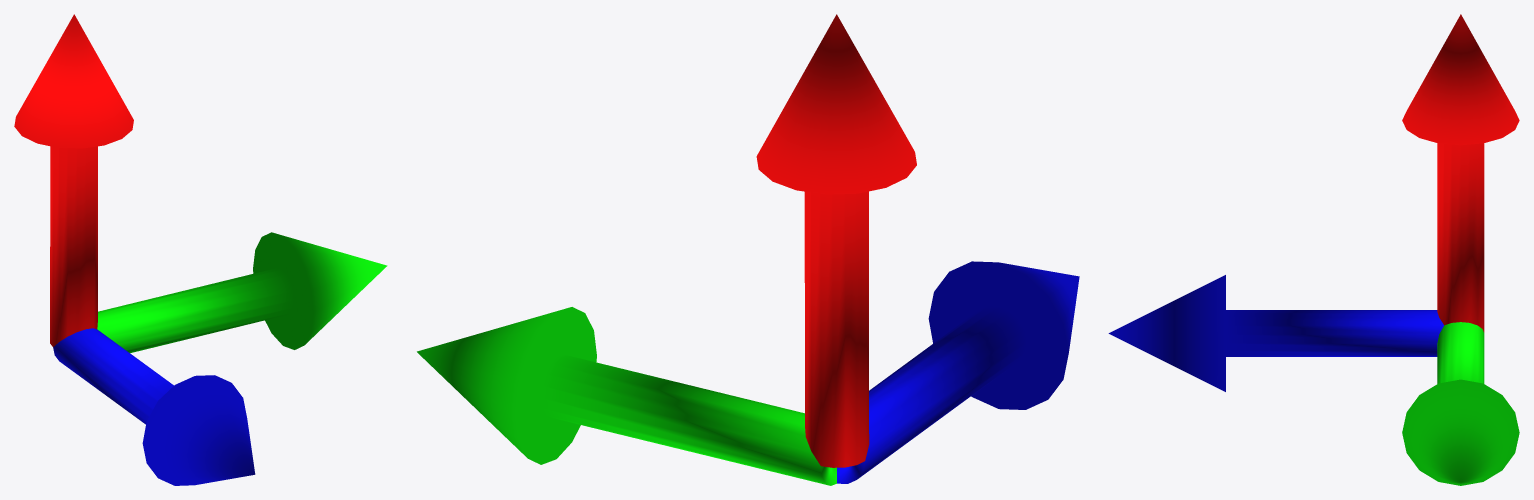
The model's file is coord_system.obj.
The picture shows the model from 3 angles, left to right: view 1: azimuth 30°, elevation 25°; view 2: azimuth 150°, elevation 25°; view 3: azimuth 270°, elevation 25°; orthographic projection. The views are drawn at different scales.
Bounding box in the file's own units: 0.07 × 0.07 × 0.07.
